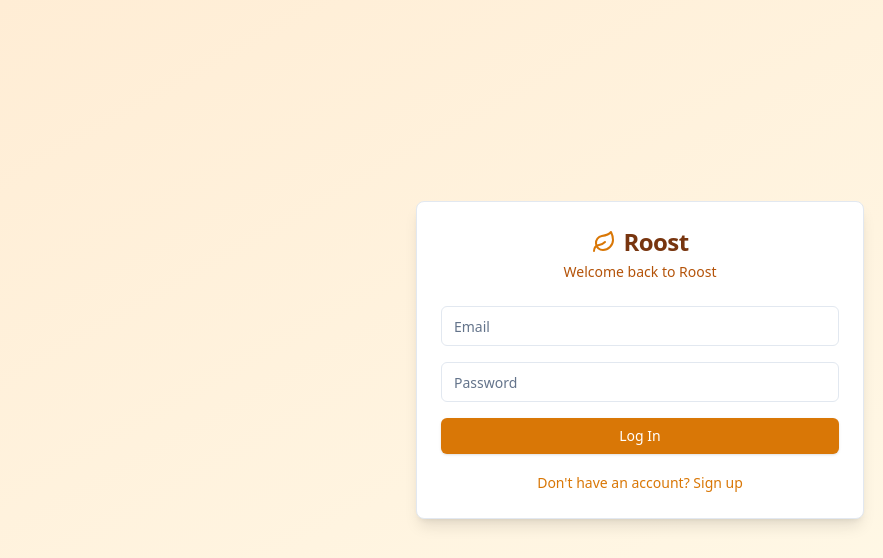
it: LoginPage › should show validation error for empty password submission
This screenshot has width=883, height=558.
Type "test@example.com" into the field with placeholder "Email". click: coordinates (640, 326)
box: [441,306,839,346]
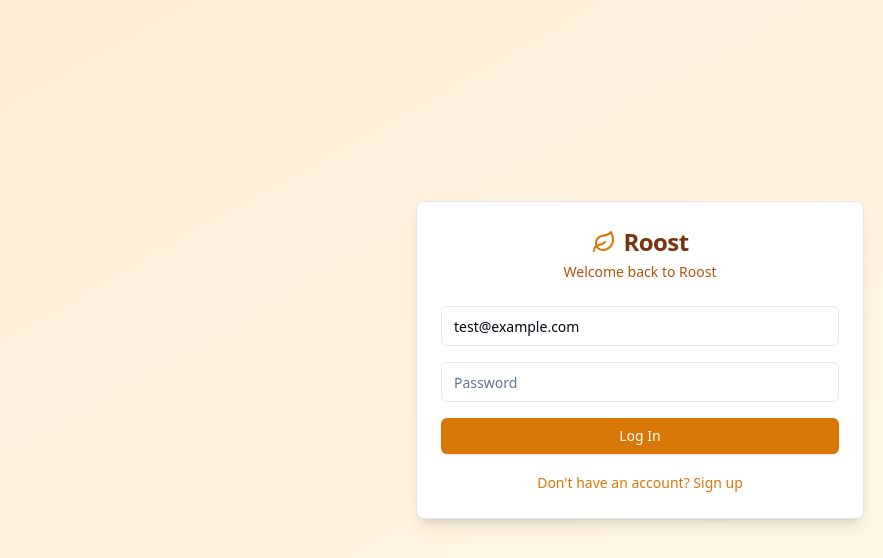
Click the button "Log In". click: coordinates (640, 436)
box: [441,418,839,454]
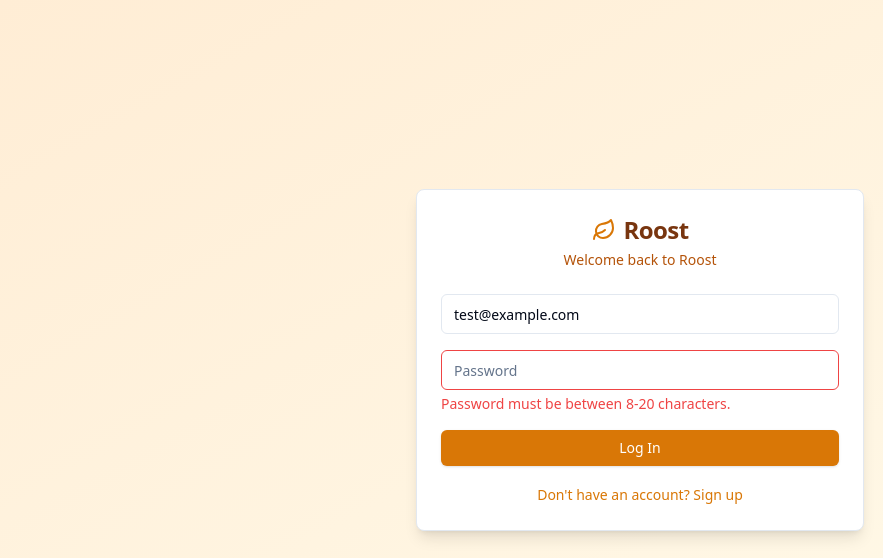
Expected: the text "Password must be between 8-20 characters." is shown, [441,394,731,413]
